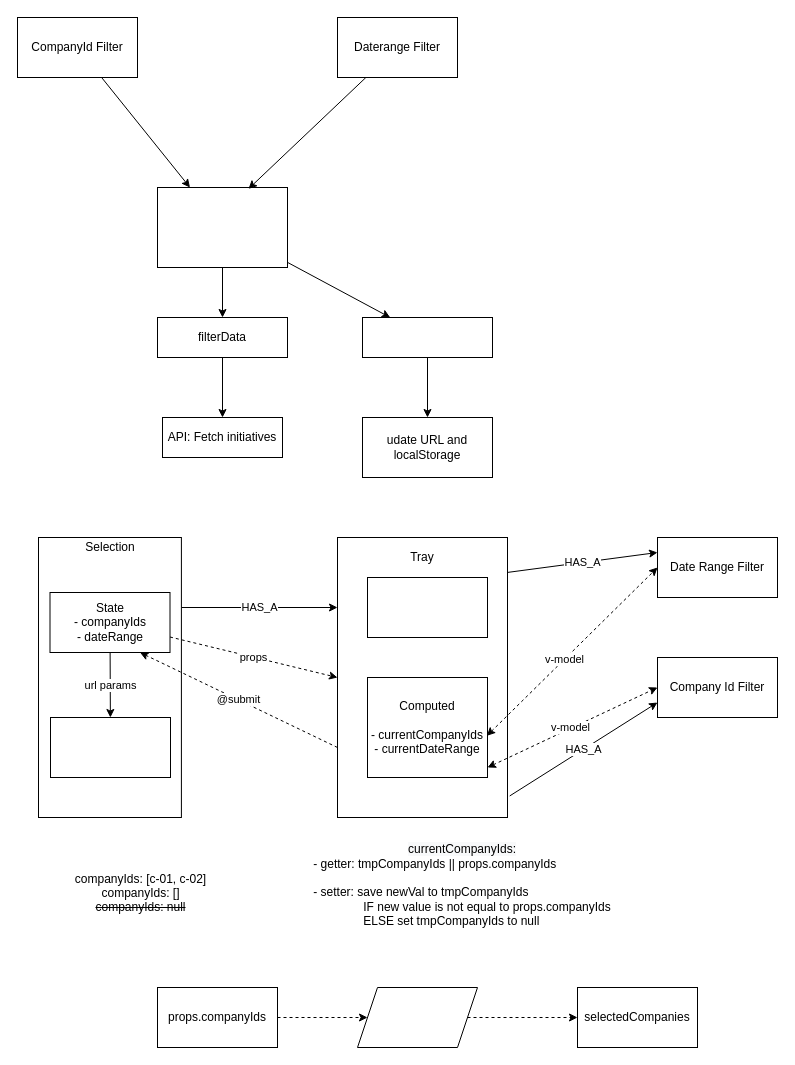
Image size: 795x1065. Some labels were removed from this diagram. The shapes that lost their labels are listed below. From the top down, each one's centre as x and y in pixels, then its label:
At point 222,227: "Filters - daterange - companyIds".
At point 427,337: "fashboardCache".
At point 427,607: "State - tmpCompanyIds - tmpDateRange".
At point 110,747: "Table".
At point 417,1017: "check if we have company info".
